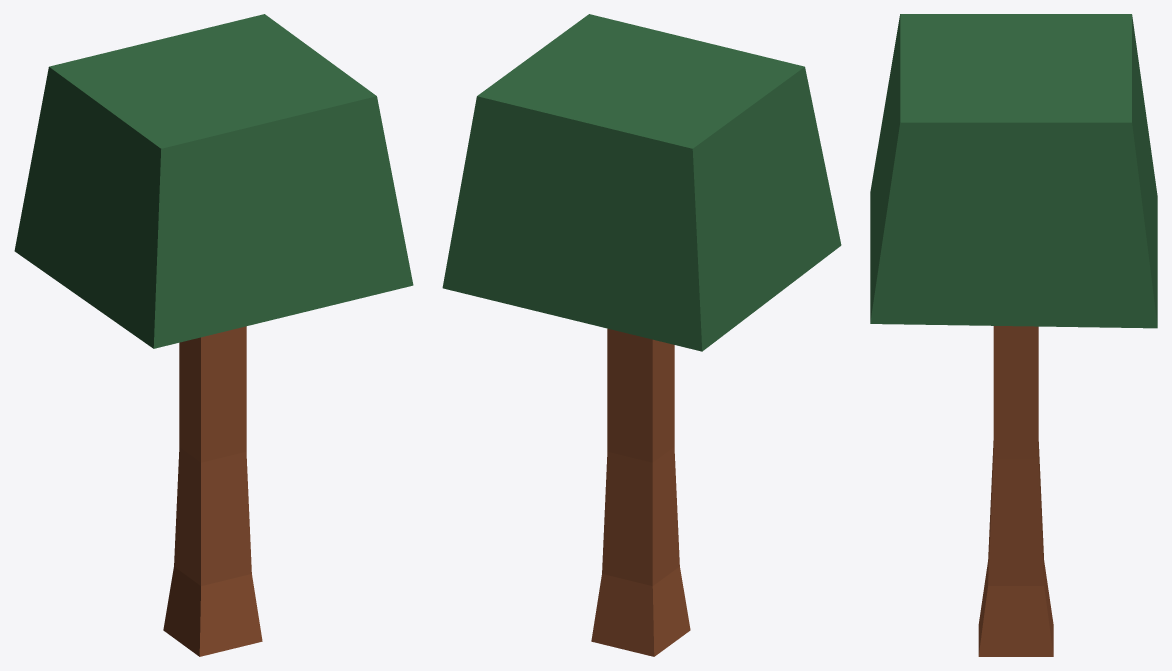
Rendered from Tree.glb.
The picture shows the model from 3 angles, left to right: view 1: azimuth 30°, elevation 25°; view 2: azimuth 150°, elevation 25°; view 3: azimuth 270°, elevation 25°; orthographic projection. The views are drawn at different scales.
Visible parts, largest first — view 1: Cube; view 2: Cube; view 3: Cube.
Part boxes in pixels (box(x1,y1,x2,y2)): Cube: box(14, 14, 413, 656); Cube: box(442, 14, 841, 656); Cube: box(870, 14, 1157, 656).
Size of the model in its own units: 8.25 by 16.83 by 7.66.
Materials: 1 (1 with a texture image).
